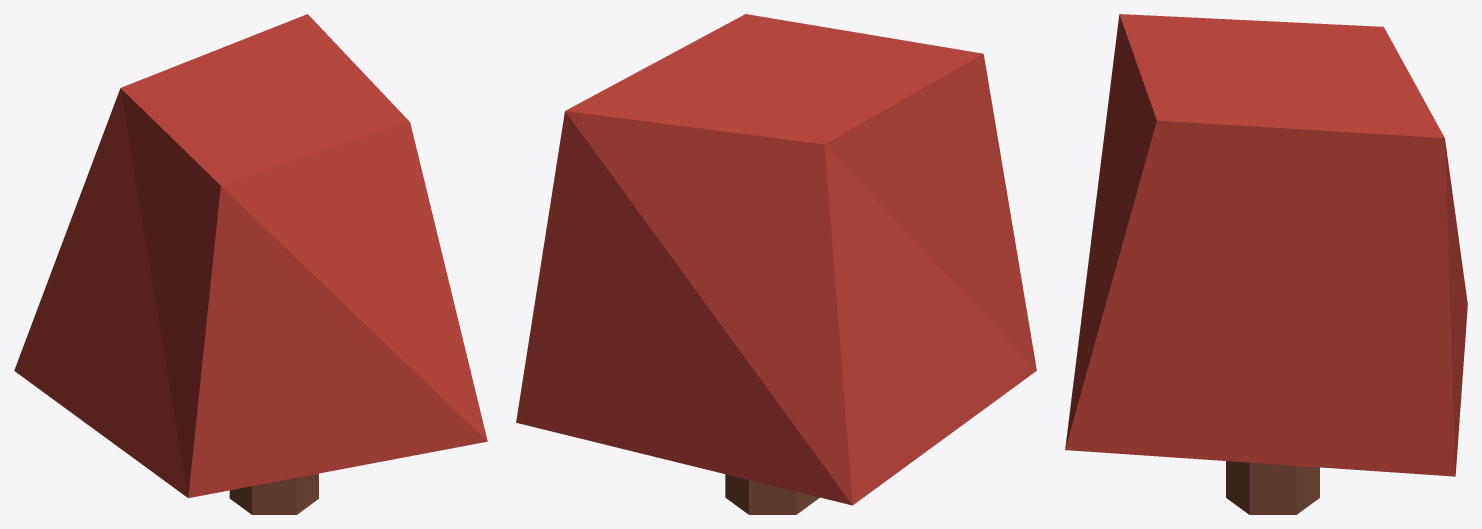
The model's file is Bush_11_summer_red_mat.fbx.
3 views of the same model, side by side, from view 1: azimuth 30°, elevation 25°; view 2: azimuth 150°, elevation 25°; view 3: azimuth 270°, elevation 25° (orthographic). The views are drawn at different scales.
Visible parts, largest first — view 1: Bush_11_summer_red_mat; view 2: Bush_11_summer_red_mat; view 3: Bush_11_summer_red_mat.
Part boxes in pixels (x1,y1,x2,y2): Bush_11_summer_red_mat: (14, 14, 487, 514); Bush_11_summer_red_mat: (516, 14, 1036, 514); Bush_11_summer_red_mat: (1065, 14, 1467, 514).
Size of the model in its own units: 50.88 by 59.59 by 51.95.
